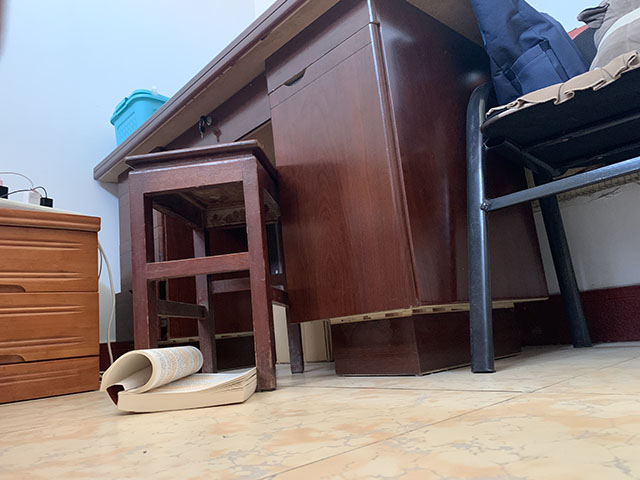book: (99, 342, 266, 414)
cabinet: (124, 137, 306, 393), (1, 206, 103, 405)
stool: (464, 1, 640, 374)
table: (90, 1, 555, 380)
wire: (97, 237, 116, 381)
